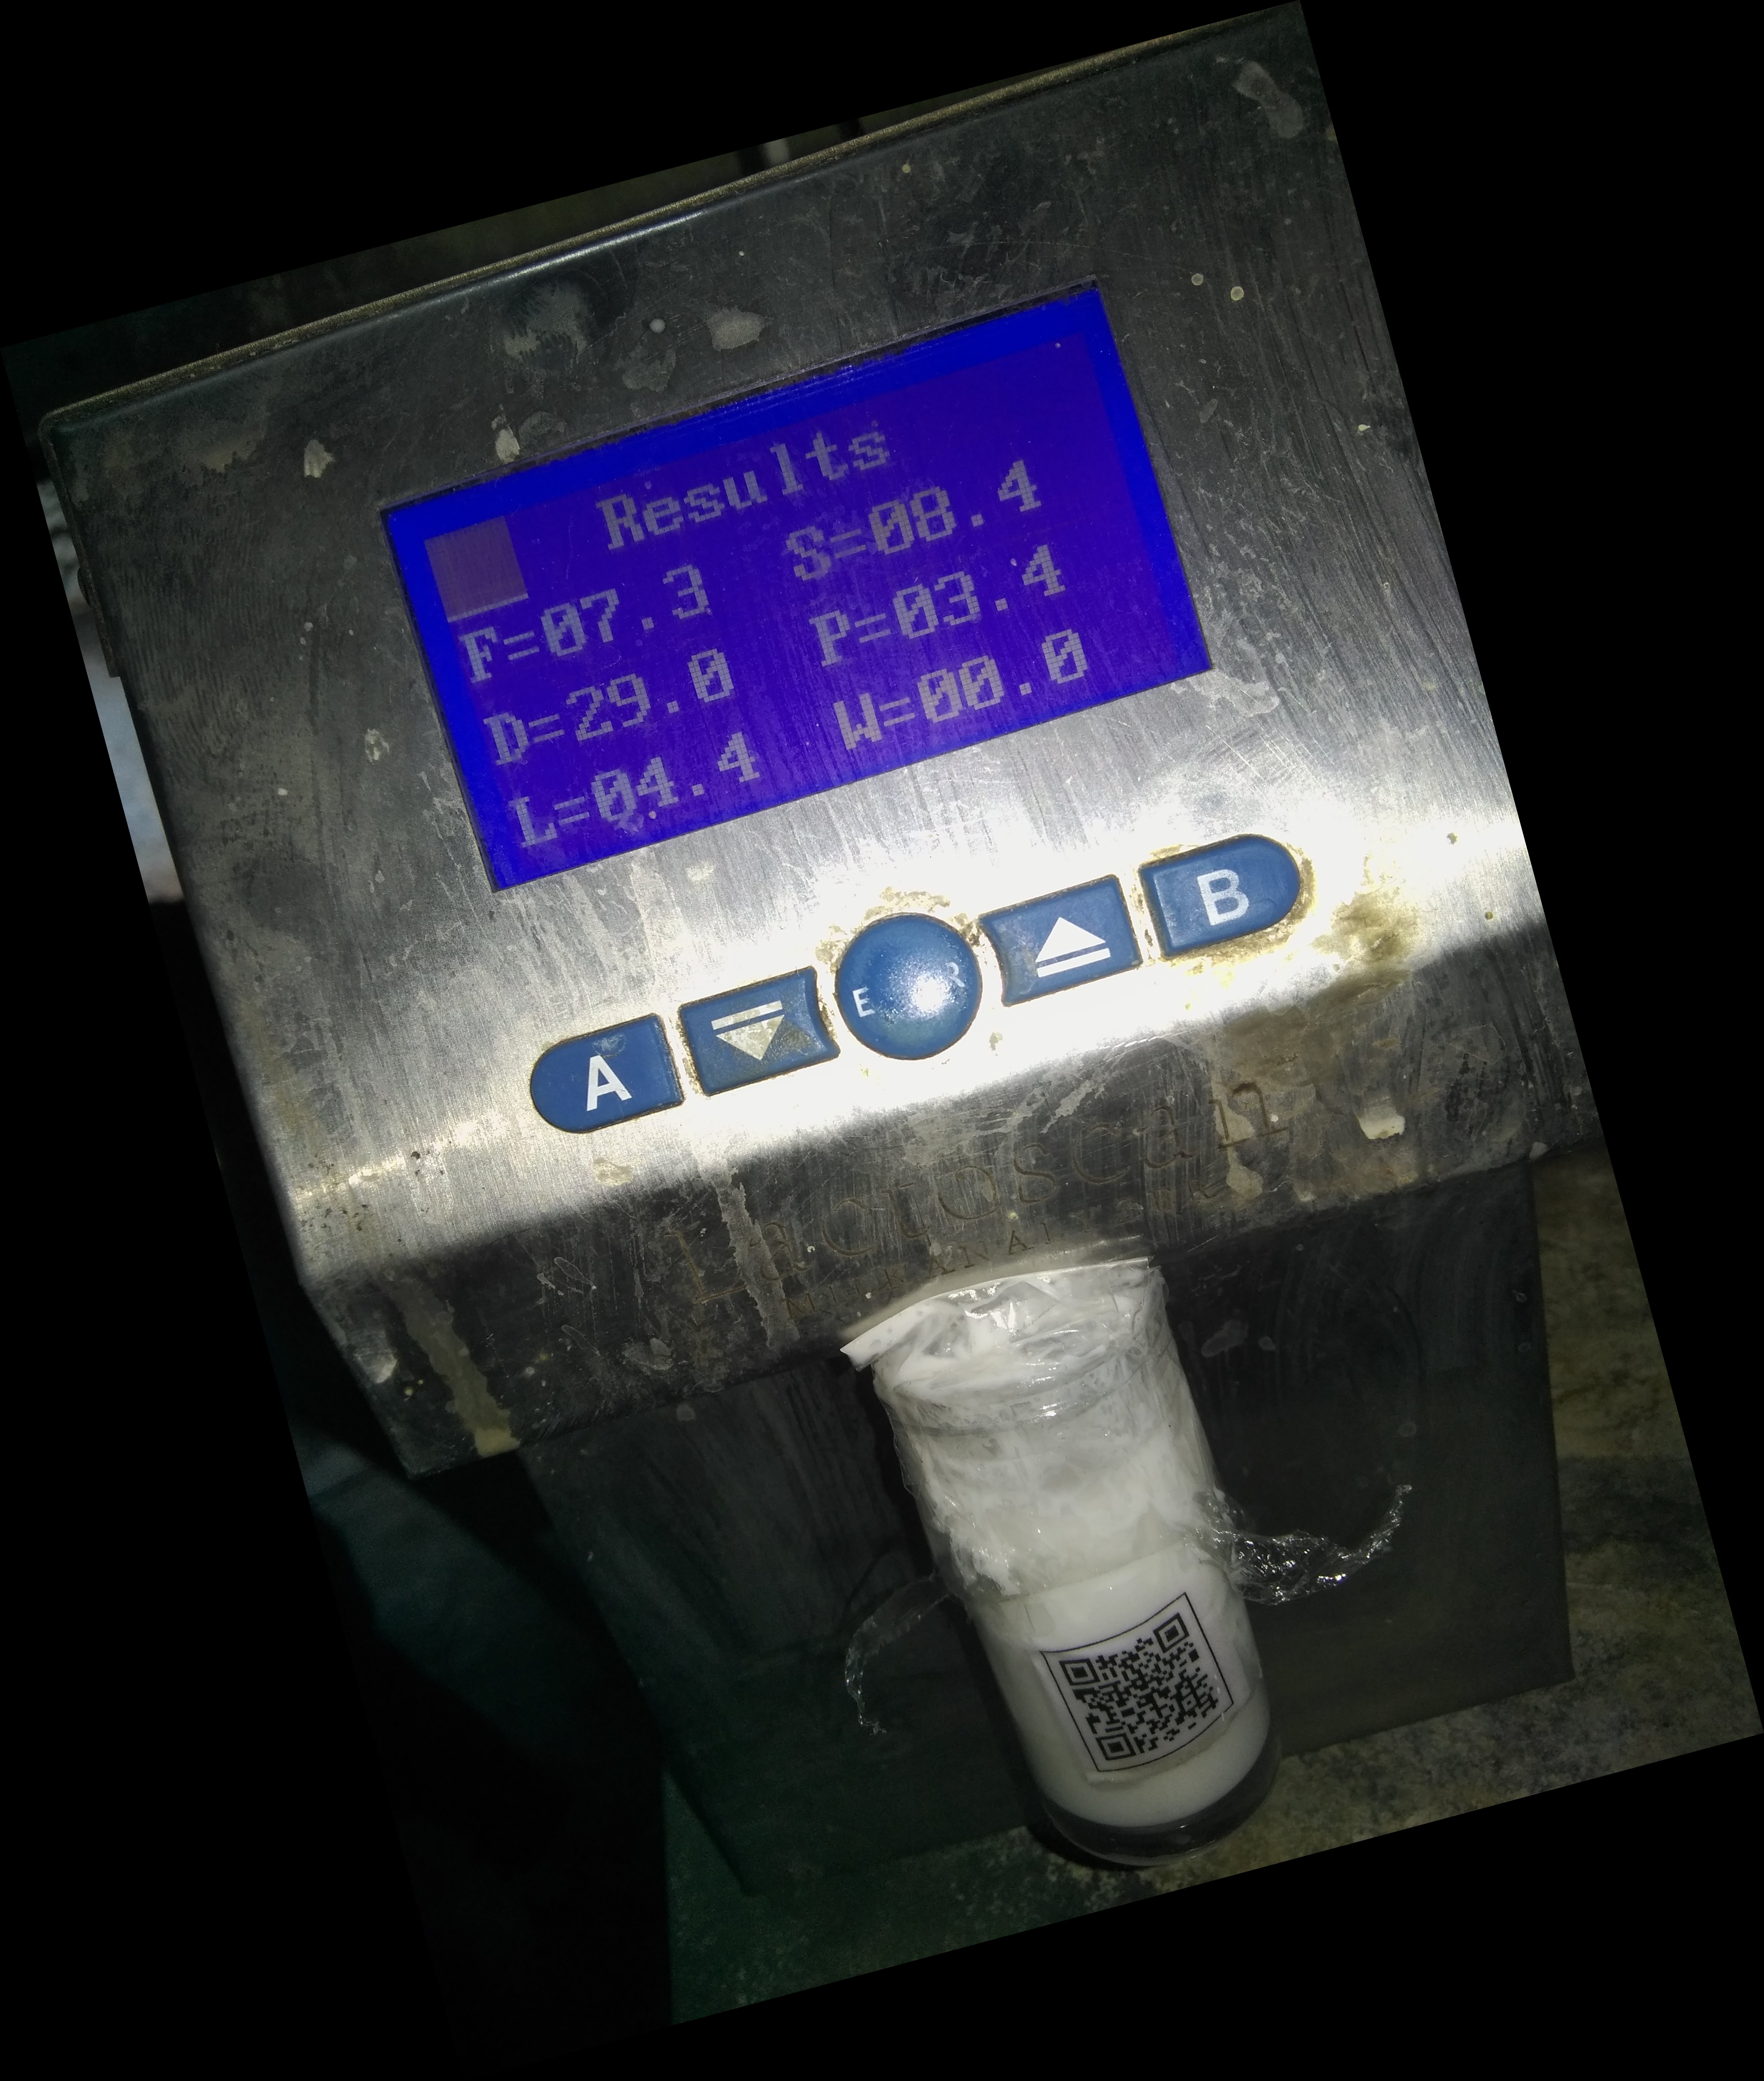lcd: (317, 271, 1272, 901)
qr: (1029, 1594, 1255, 1803)
